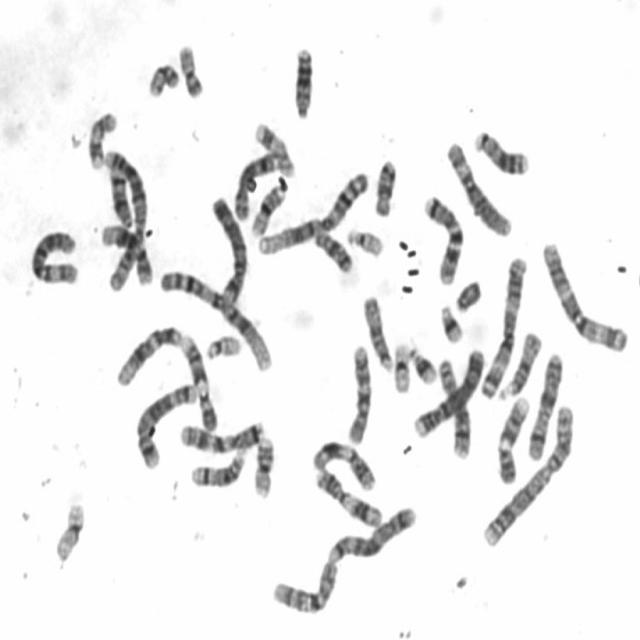A1: (156, 262, 276, 372), (252, 163, 372, 257)
A2: (478, 397, 578, 549), (99, 141, 152, 289)
A3: (537, 232, 631, 354), (477, 249, 530, 400)
B4: (409, 340, 488, 440), (205, 188, 250, 308)
B5: (130, 375, 199, 471), (325, 499, 419, 565)
C10: (267, 552, 341, 617), (342, 336, 374, 446)
C11: (310, 461, 385, 529), (307, 432, 378, 492)
C12: (112, 317, 184, 388), (95, 216, 154, 286)
C6: (442, 134, 514, 238), (26, 222, 80, 286)
C7: (418, 187, 467, 286), (175, 413, 265, 454)
C8: (433, 350, 474, 460), (230, 143, 284, 222)
C9: (177, 328, 220, 432), (492, 387, 532, 485)
D13: (470, 122, 531, 178), (289, 40, 316, 120)
D14: (186, 443, 248, 490), (103, 158, 134, 229)
D15: (495, 324, 545, 402), (358, 288, 396, 374)
E16: (246, 174, 288, 239), (248, 429, 277, 500)
E17: (250, 114, 296, 180), (83, 103, 119, 171)
E18: (309, 221, 355, 274), (370, 150, 400, 218)
F19: (49, 495, 88, 563), (388, 335, 414, 395)
F20: (174, 36, 206, 100), (142, 54, 182, 98)
G21: (404, 339, 440, 386), (435, 296, 466, 346)
G22: (342, 220, 386, 259), (202, 327, 244, 361)
X: (524, 344, 566, 464)
Y: (451, 272, 484, 313)
